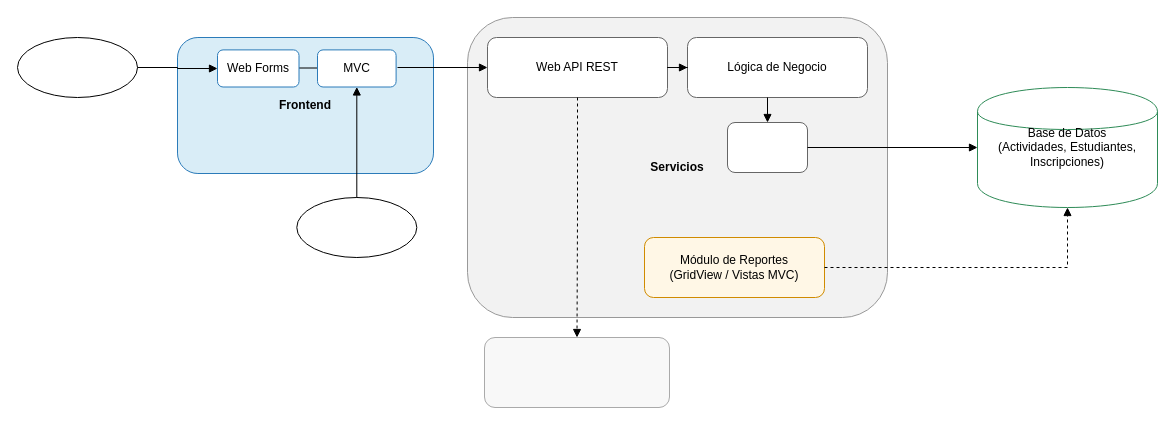
This 1175x425 diagram has some shape labels left out. Each missing label, with the centre of its shape:
Administrador: (356,227)
Estudiante: (77,67)
Repositorio: (767,147)
Sistemas Externos (Móvil, Integraciones): (577,372)
